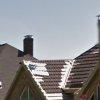Chimney: (19, 27, 37, 57)
